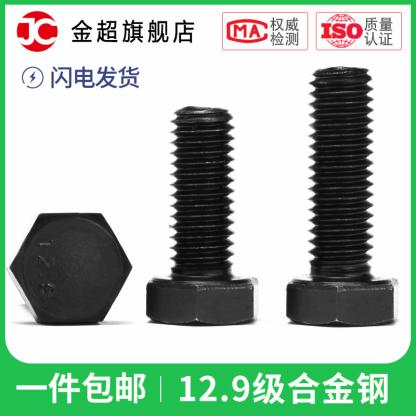FOD: (283, 63, 401, 332), (144, 104, 263, 330), (6, 210, 134, 326)
